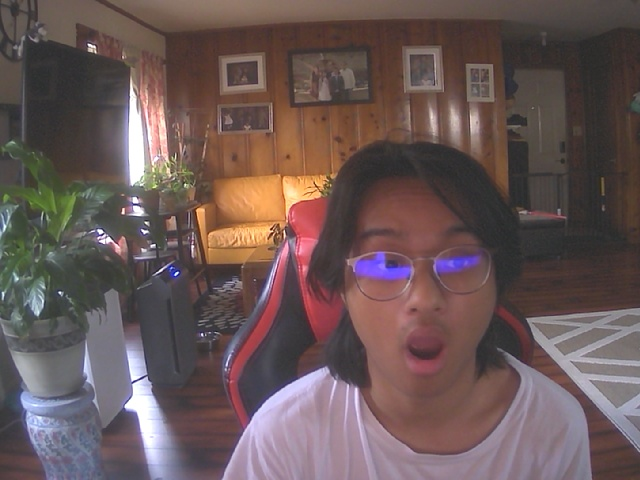fear: (341, 159, 512, 401)
